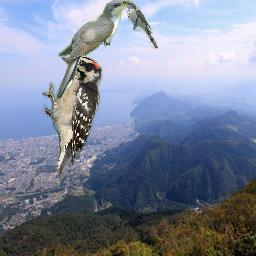Cuckoo: (56, 0, 132, 99), (122, 1, 158, 49)
Woodpecker: (42, 57, 103, 182)
